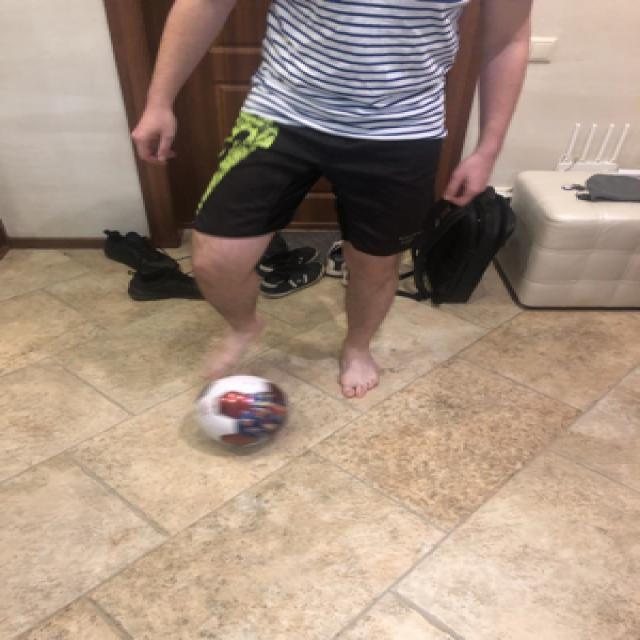soccer_ball: (190, 371, 292, 451)
